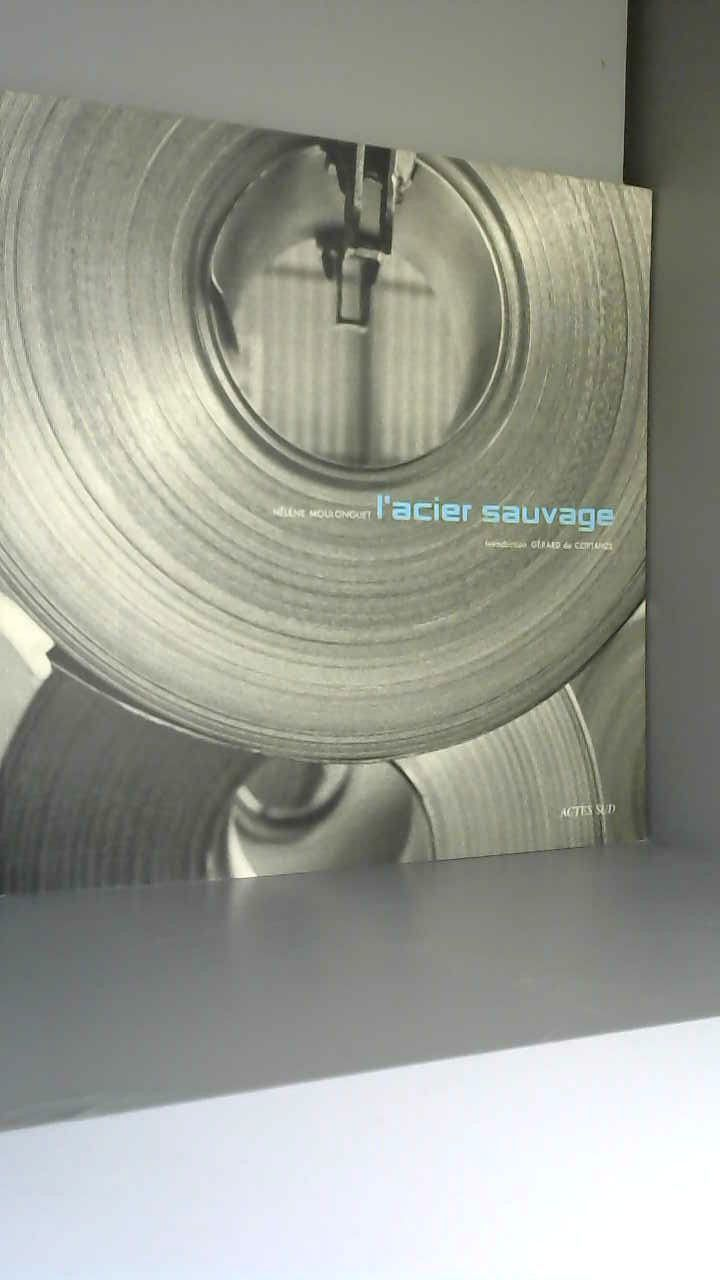book: (0, 82, 683, 911)
